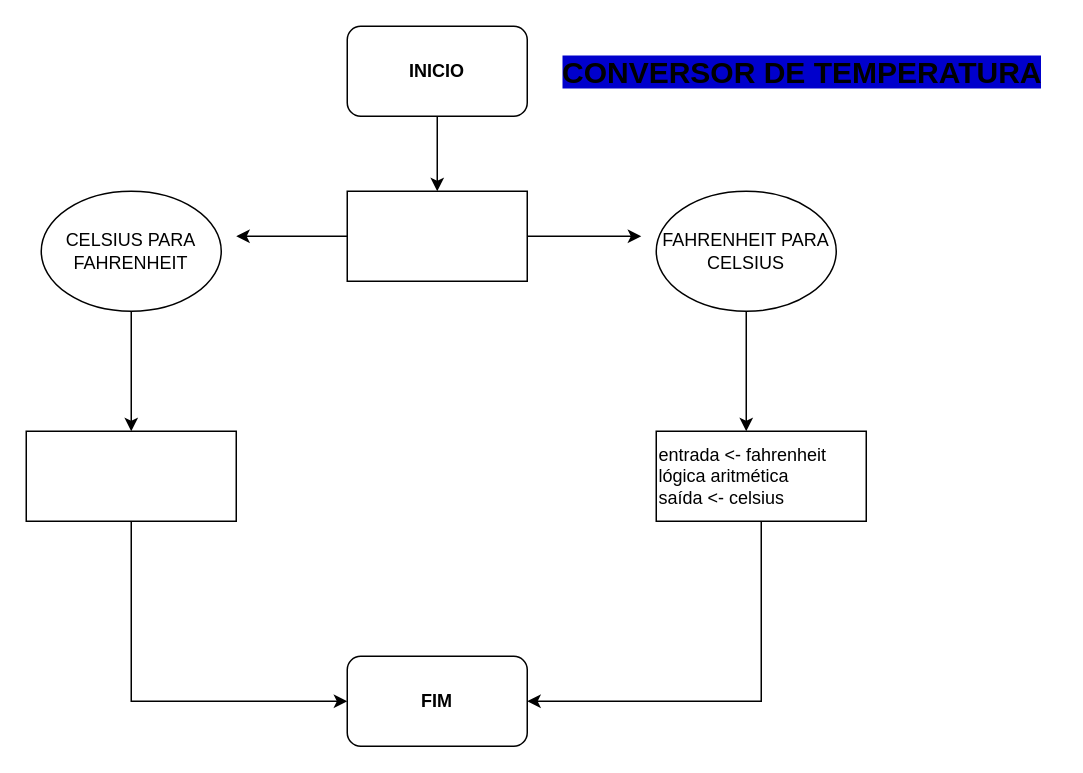
Image size: 1083x773. Some labels were removed from this diagram. Here are the shapes that lost their labels. From the top down, the centre of each, then its label:
At pixel 436 235: "QUAL CONVERSÃO VOCÊ QUER FAZER?".
At pixel 130 475: "entrada <- celsius lógica aritmética saída <- fahrenheit".
